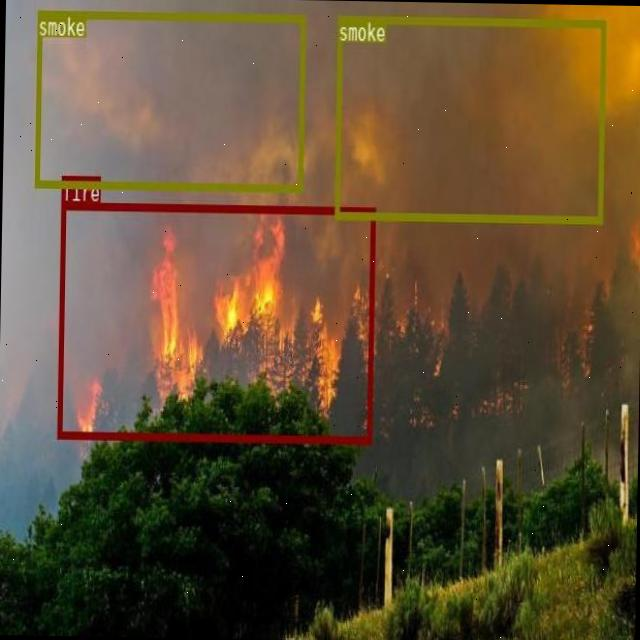fire: (57, 200, 374, 442)
smoke: (333, 14, 604, 222), (34, 10, 304, 190)
